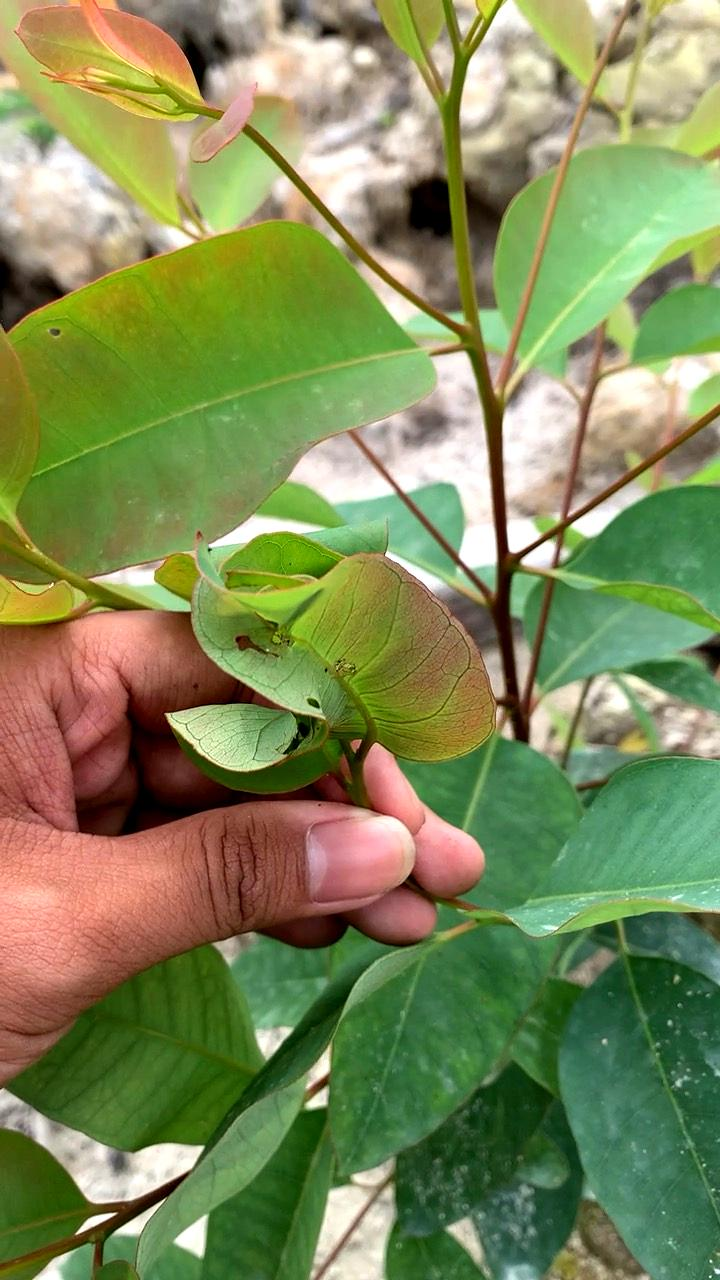Leaf Roller - Leaf: (117, 523, 528, 882)
